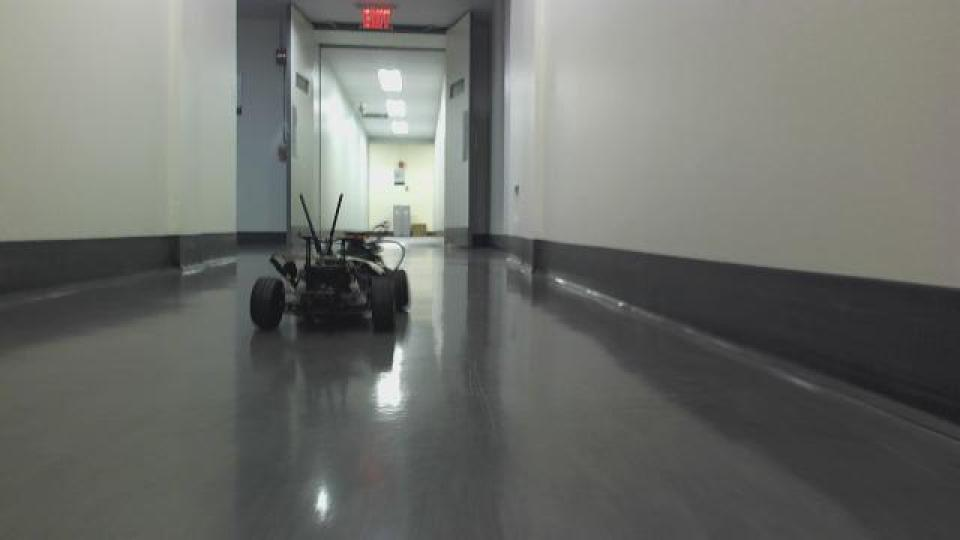car: (246, 189, 412, 336)
